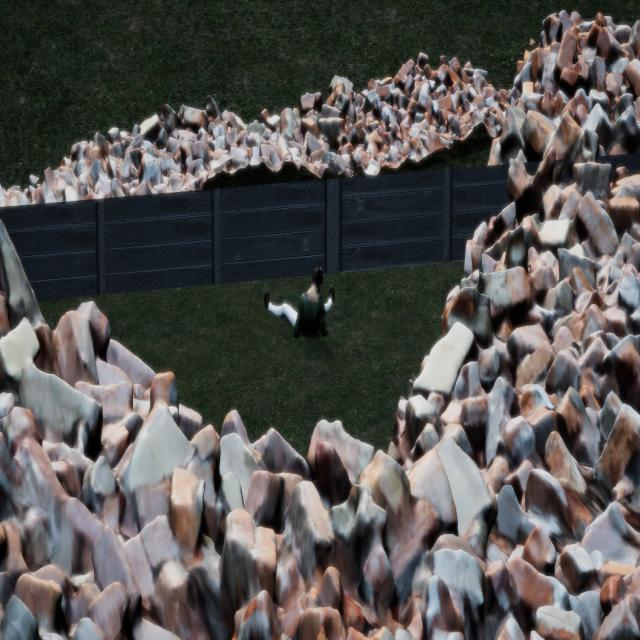Human: (249, 251, 338, 346)
